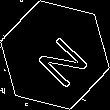N_NW: (23, 23, 87, 87)
